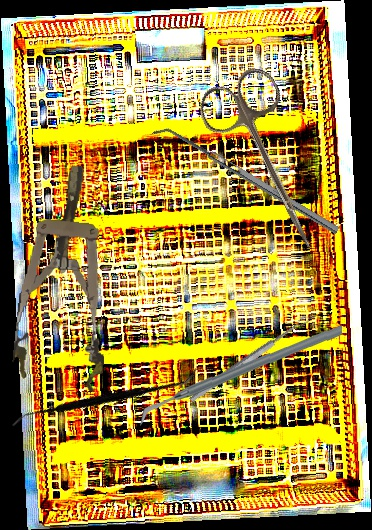Chopper: (140, 319, 342, 431)
Iris Scissors: (191, 61, 350, 265)
Spatula Surgical: (9, 302, 200, 493), (152, 119, 340, 242)
Speculum: (10, 161, 124, 392)
Surgical Spoon: (187, 314, 312, 404)
